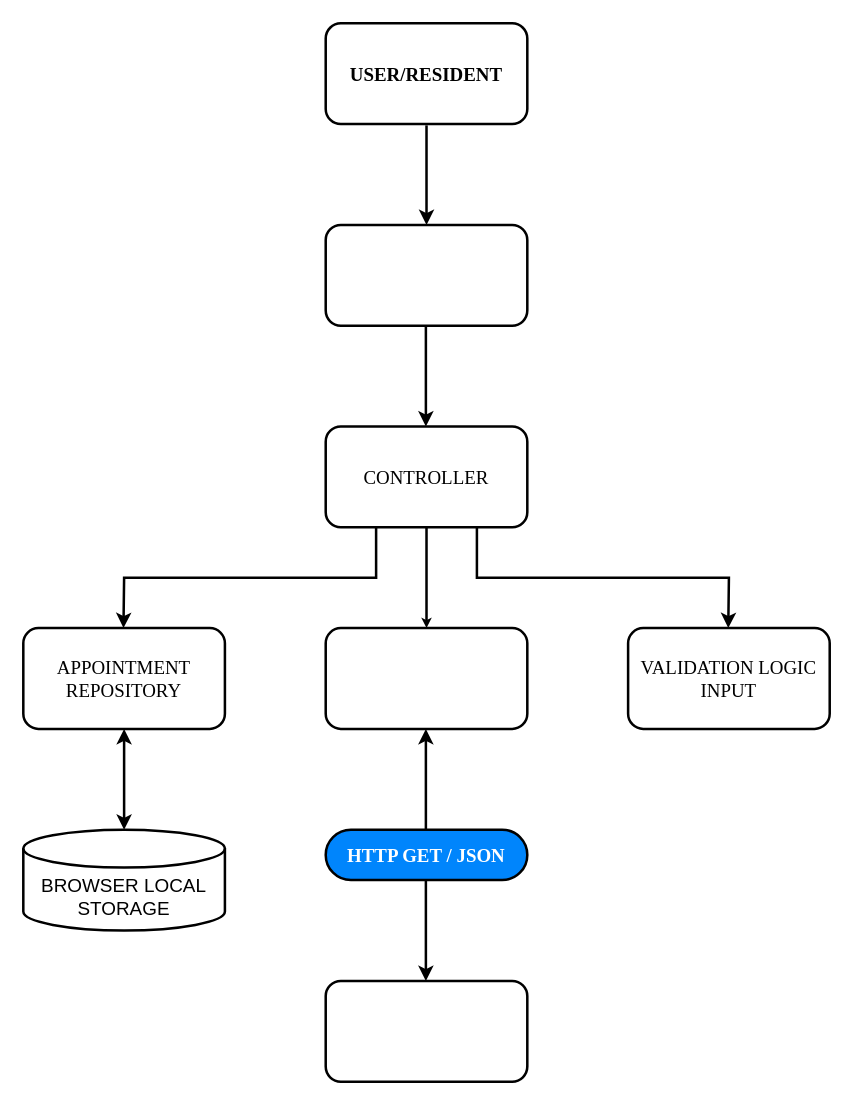
Some shapes in this 852 by 1104 pixel diagram are drawn without their labels. Here are the shapes that lost their labels. From the top down, the box of each, then its label:
(324, 223, 528, 326): USER INTERFACE
(324, 626, 528, 730): HOLIDAY API CLIENT
(324, 979, 528, 1082): NAGER.DATE API
